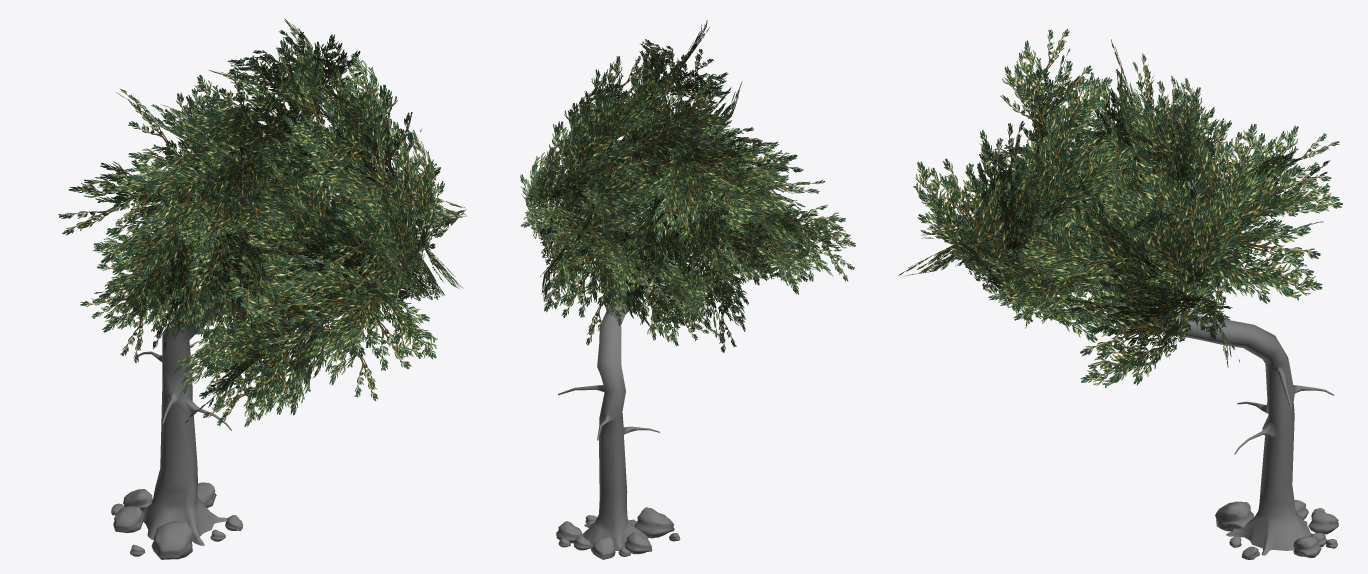
The model's file is gardtree_lod0.fbx.
3 views of the same model, side by side, from view 1: azimuth 30°, elevation 25°; view 2: azimuth 150°, elevation 25°; view 3: azimuth 270°, elevation 25° (orthographic). The views are drawn at different scales.
Parts seen in each view (by area): view 1: Default_Layer; view 2: Default_Layer; view 3: Default_Layer.
Boxes of the visible parts, x1,y1,x2,y2 form: Default_Layer: (58,19,467,559); Default_Layer: (520,20,855,559); Default_Layer: (898,29,1342,559).
Size of the model in its own units: 542 by 823 by 662.
